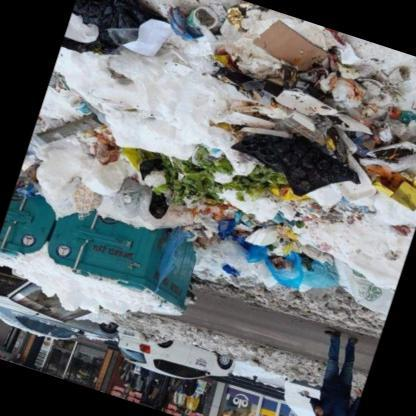Garbage: (201, 15, 415, 339), (20, 45, 256, 244), (54, 0, 215, 98)
